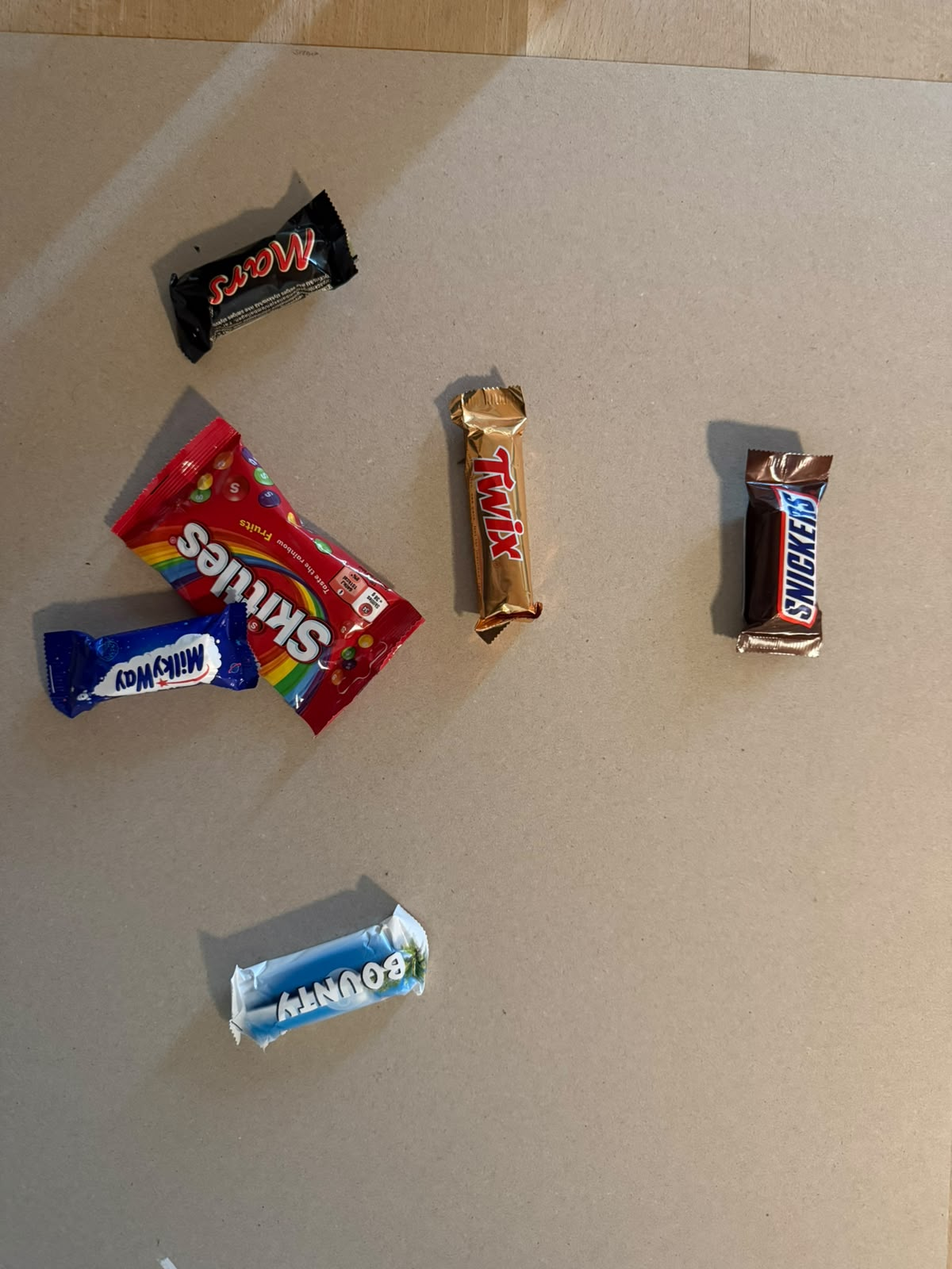Bounty: (182, 980, 452, 1095)
Mars: (122, 266, 368, 389)
MilkyWay: (19, 628, 275, 737)
Skittles: (86, 518, 268, 858)
Snickers: (729, 429, 842, 676)
Twix: (436, 374, 572, 653)
